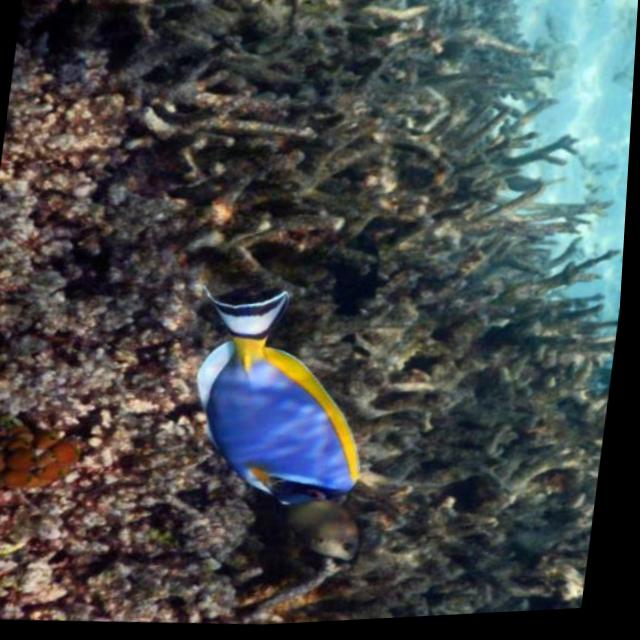Dead Coral: (32, 0, 640, 637)
